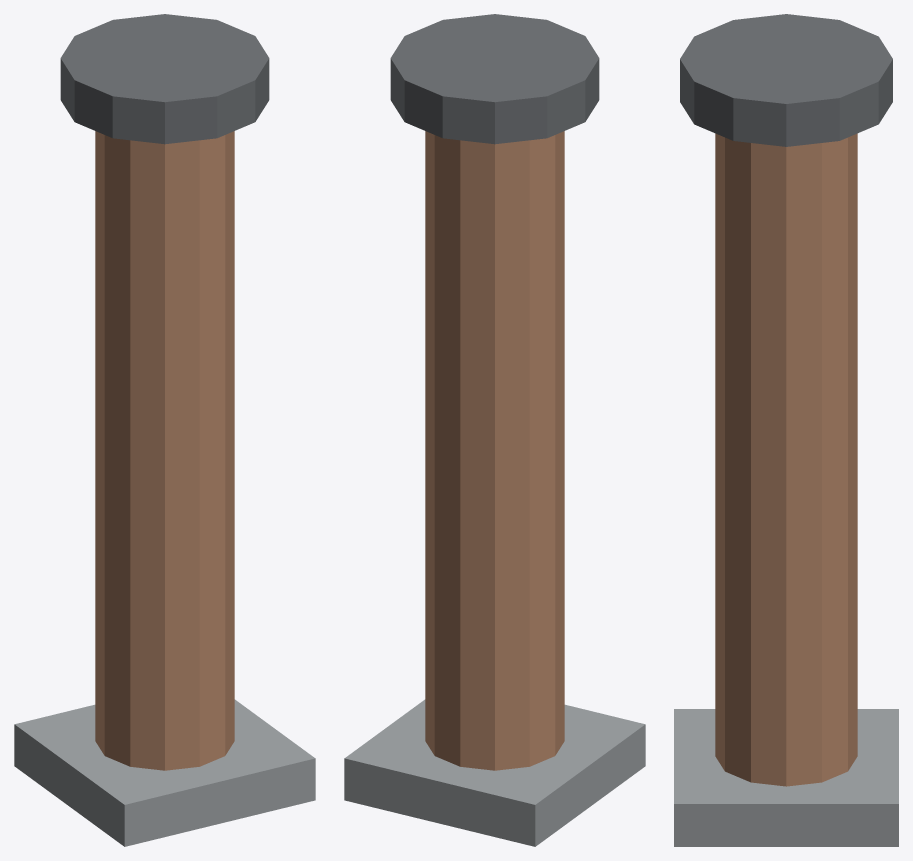
File: exhaust_stack_03.glb
3 views of the same model, side by side, from view 1: azimuth 30°, elevation 25°; view 2: azimuth 150°, elevation 25°; view 3: azimuth 270°, elevation 25° (orthographic). The views are drawn at different scales.
Parts seen in each view (by area): view 1: stack, base, cap; view 2: stack, base, cap; view 3: stack, cap, base.
Boxes of the visible parts, x1=… form: stack: x1=95, y1=131, x2=234, y2=770; base: x1=14, y1=699, x2=315, y2=846; cap: x1=60, y1=14, x2=269, y2=144; stack: x1=425, y1=131, x2=564, y2=770; base: x1=344, y1=699, x2=645, y2=846; cap: x1=390, y1=14, x2=599, y2=144; stack: x1=715, y1=133, x2=857, y2=786; cap: x1=680, y1=14, x2=892, y2=146; base: x1=674, y1=709, x2=898, y2=846.
Bounding box in the file's own units: 0.38 × 1.38 × 0.38.
